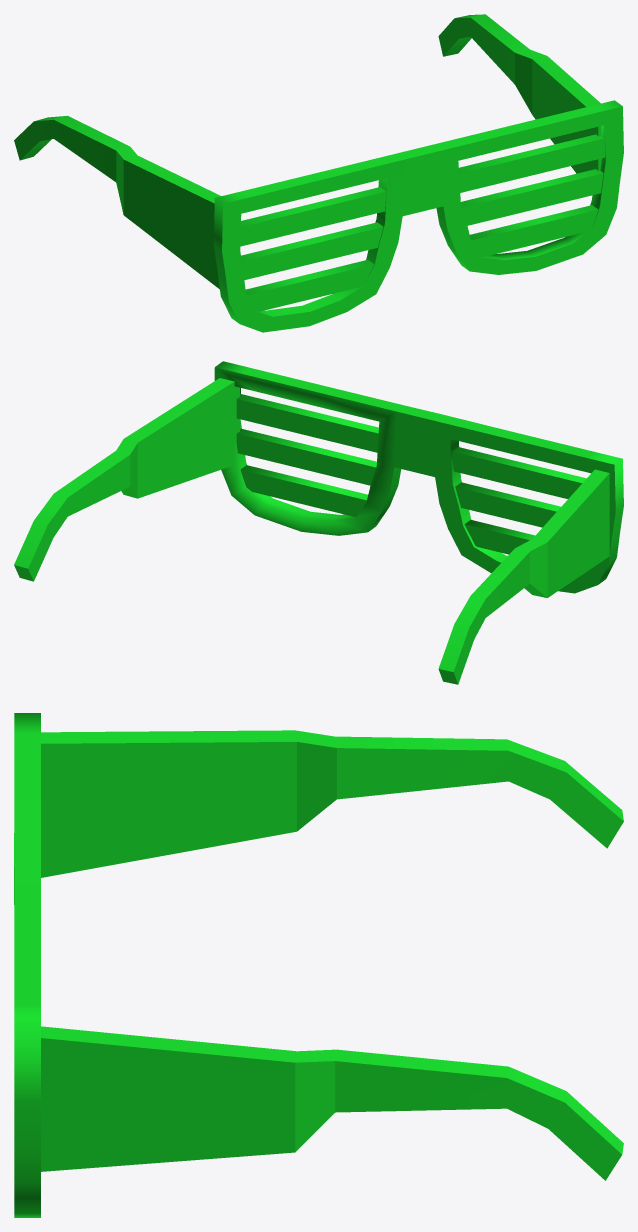
The model's file is Blinds_glasses.fbx.
3 renders of one model, top to bottom at view 1: azimuth 30°, elevation 25°; view 2: azimuth 150°, elevation 25°; view 3: azimuth 270°, elevation 25°, orthographic. The views are drawn at different scales.
Visible parts, largest first — view 1: Blinds_glasses.c, Glasses_stick_43, Glasses_stick_44; view 2: Blinds_glasses.c, Glasses_stick_44, Glasses_stick_43; view 3: Glasses_stick_44, Glasses_stick_43, Blinds_glasses.c.
Part boxes in pixels (x1=…): Blinds_glasses.c: x1=213, y1=100, x2=623, y2=332; Glasses_stick_43: x1=14, y1=115, x2=221, y2=289; Glasses_stick_44: x1=438, y1=14, x2=601, y2=173; Blinds_glasses.c: x1=214, y1=361, x2=623, y2=593; Glasses_stick_44: x1=14, y1=378, x2=239, y2=581; Glasses_stick_43: x1=438, y1=469, x2=609, y2=684; Glasses_stick_44: x1=40, y1=1026, x2=623, y2=1180; Glasses_stick_43: x1=41, y1=730, x2=623, y2=877; Blinds_glasses.c: x1=14, y1=713, x2=40, y2=1217.
Bounding box in the file's own units: 0.6682 × 0.2087 × 0.4998.
